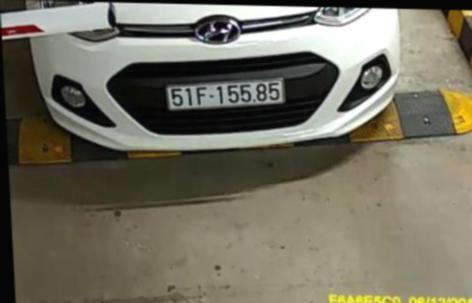License_Plate: (163, 72, 293, 116)
